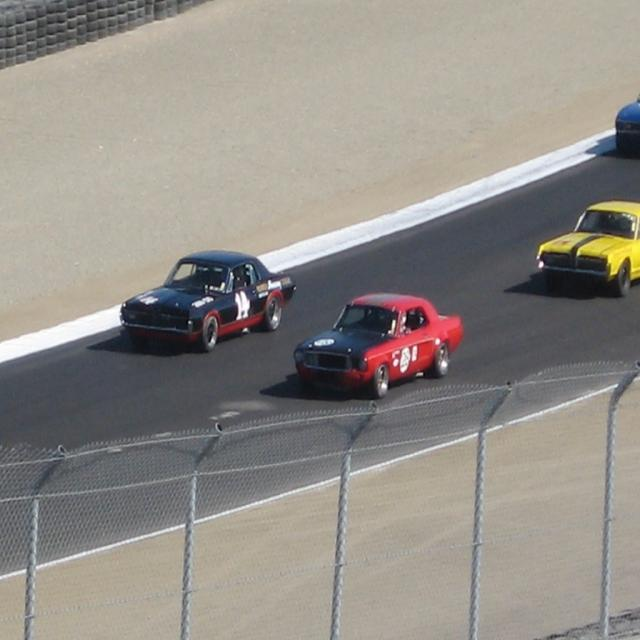car: (288, 289, 465, 400), (117, 246, 294, 345)
